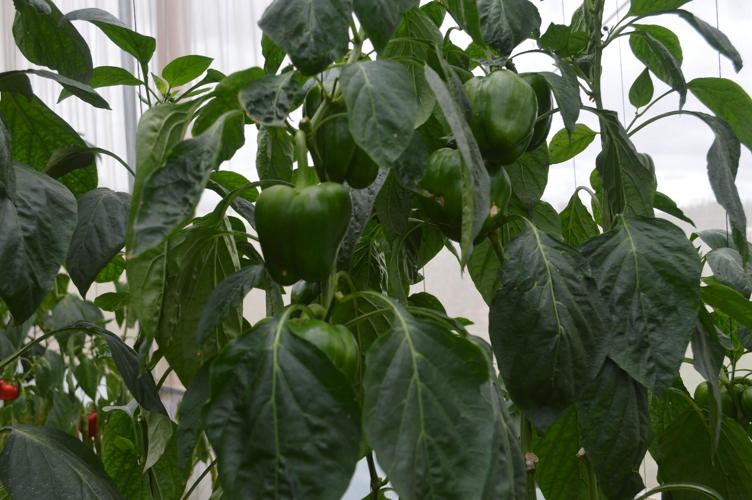BellPepper: (305, 78, 385, 193), (257, 185, 348, 283), (423, 151, 519, 241), (283, 314, 368, 401), (457, 72, 532, 167), (511, 71, 554, 156)
